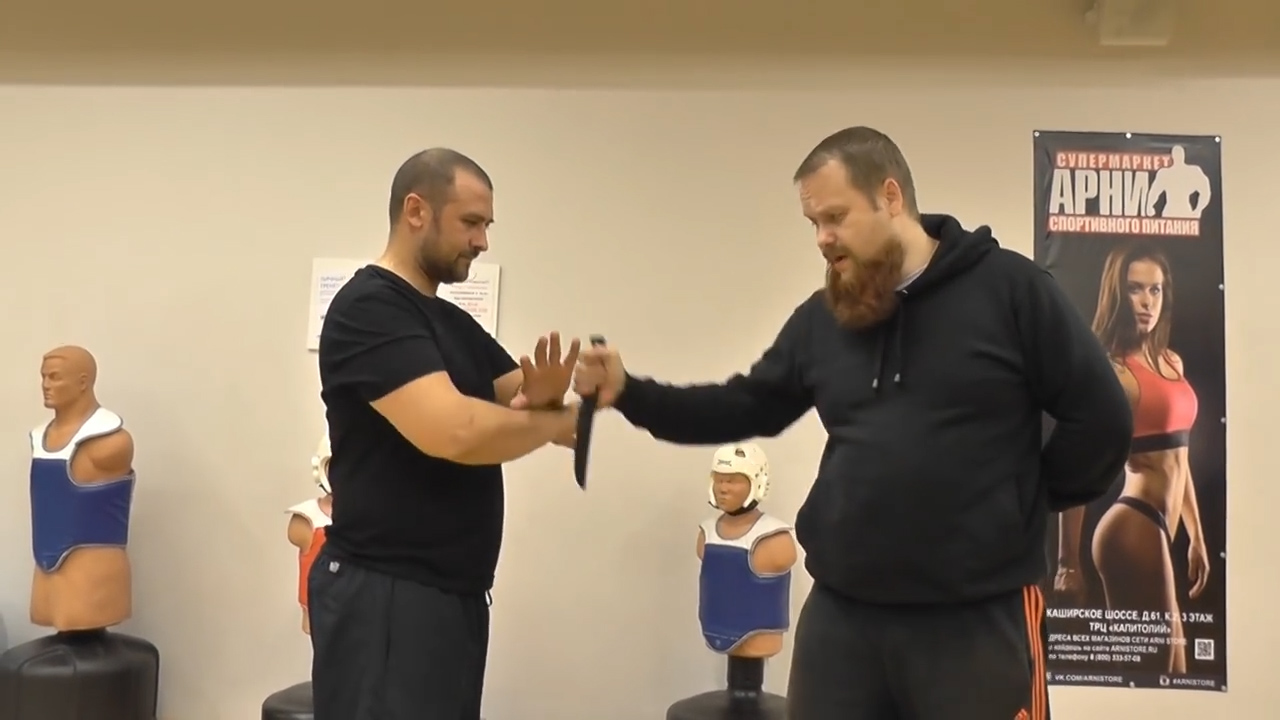knife: (565, 329, 614, 497)
